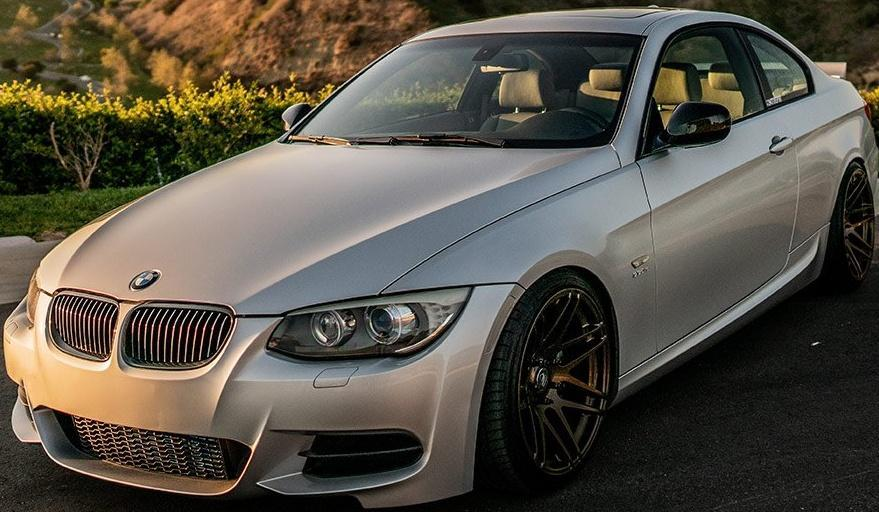Cars: (1, 10, 879, 507)
